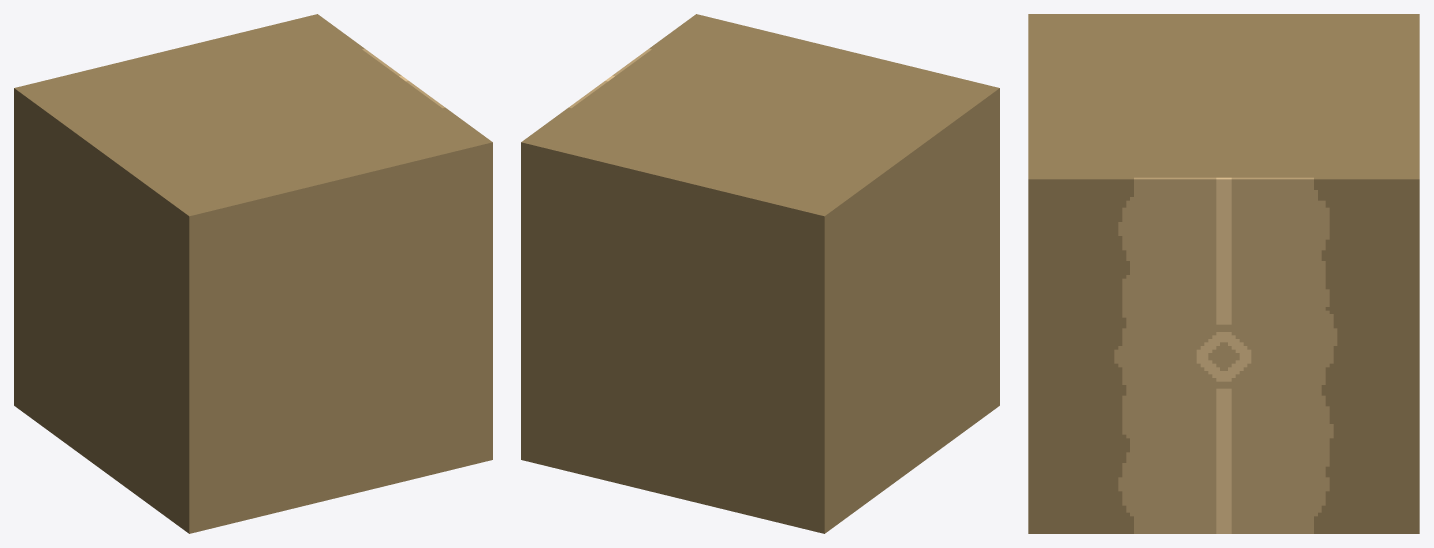
File: wallx2a.obj
3 views of the same model, side by side, from view 1: azimuth 30°, elevation 25°; view 2: azimuth 150°, elevation 25°; view 3: azimuth 270°, elevation 25° (orthographic). The views are drawn at different scales.
Visible parts, largest first — view 1: wallx2a; view 2: wallx2a; view 3: wallx2a.
Part boxes in pixels (x1,y1,x2,y2): wallx2a: (14,14,492,533); wallx2a: (521,14,999,533); wallx2a: (1028,14,1419,533).
Bounding box in the file's own units: 100 × 100 × 100.
1 material, 1 textured.
